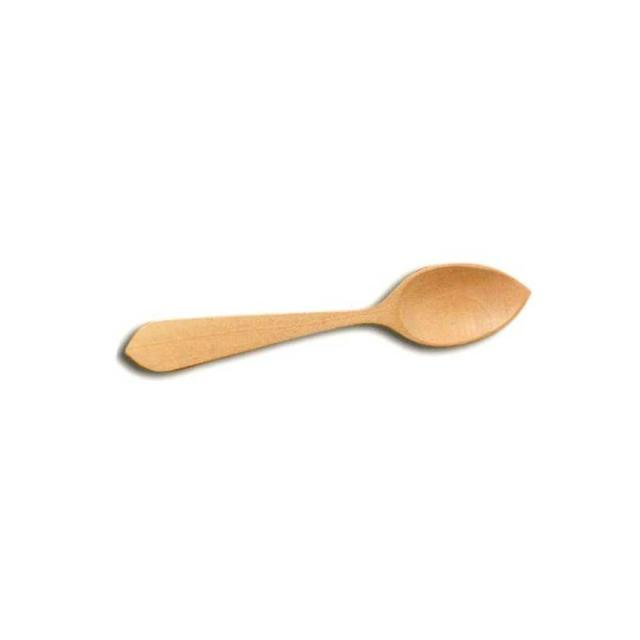spoon: (112, 254, 539, 402)
